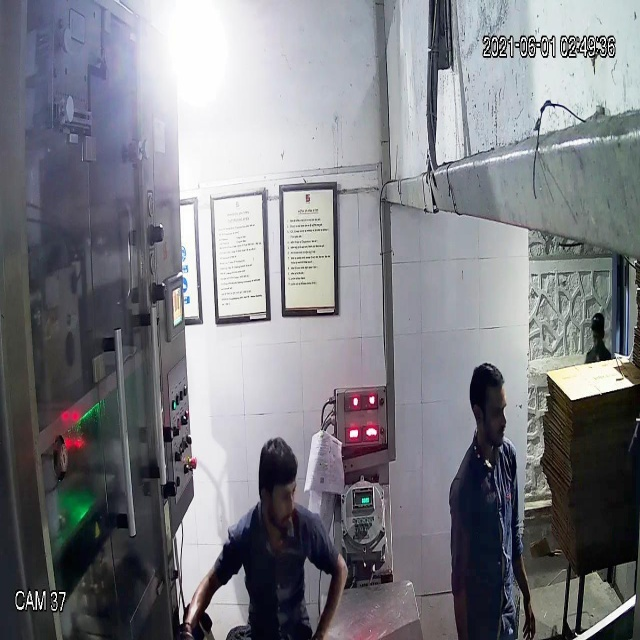Sin_gafas: (465, 396, 512, 429), (256, 476, 298, 512)
